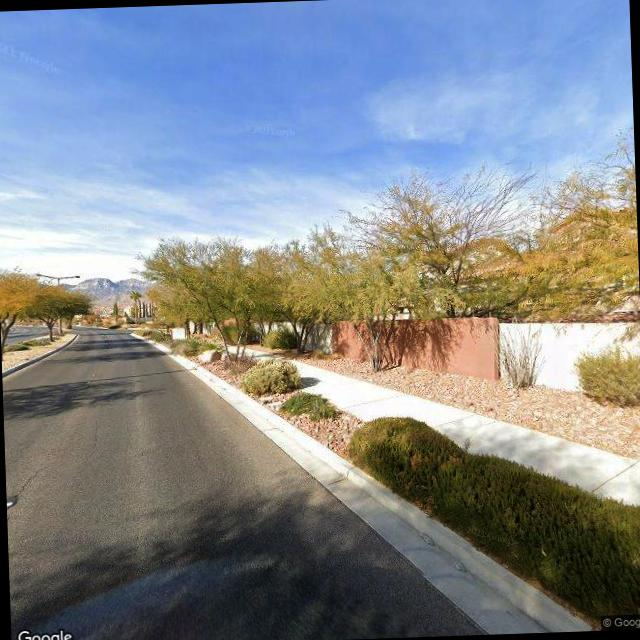pothole: (5, 464, 44, 535), (86, 412, 102, 457)
